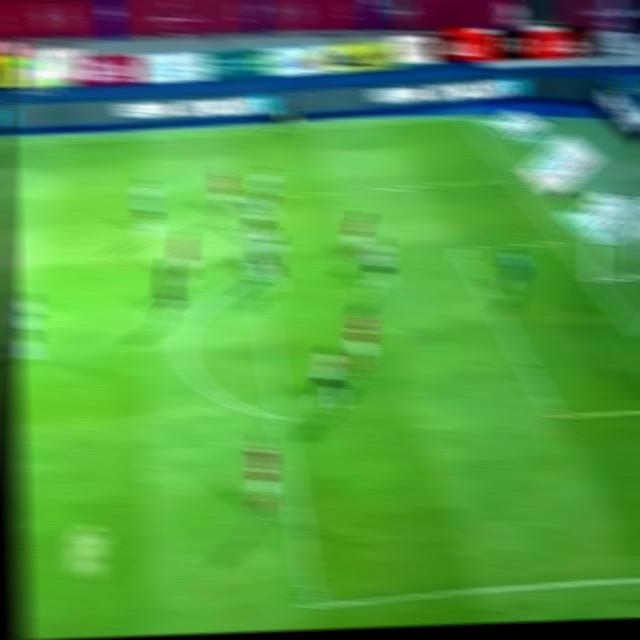bigarea_bottom_inner: (299, 587, 328, 616)
bigarea_top_inner: (239, 189, 259, 205)
bigarea_top_outter: (500, 170, 524, 186)
bottom_arc_area_intersection: (269, 408, 294, 432)
corner: (454, 114, 475, 122)
smallarea_bottom_inner: (545, 399, 573, 432)
smallarea_top_inner: (451, 241, 476, 260)
smallarea_top_outter: (554, 231, 576, 250)
